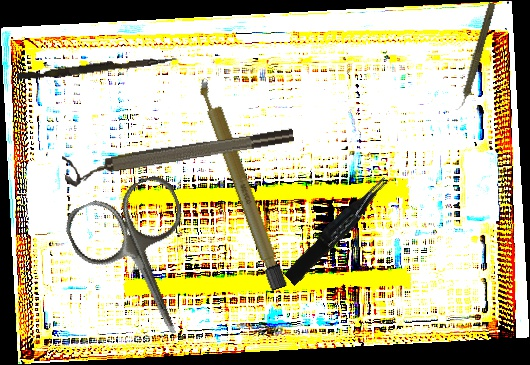Fixation Ring: (61, 124, 297, 188)
Handpiece: (453, 0, 498, 114)
Iris Scissors: (59, 170, 226, 357)
Pusher: (17, 50, 177, 85)
Scalpel Handle: (195, 75, 288, 292)
Tissue Forceps: (279, 175, 397, 286)
